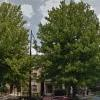Tree: (38, 2, 100, 91)
